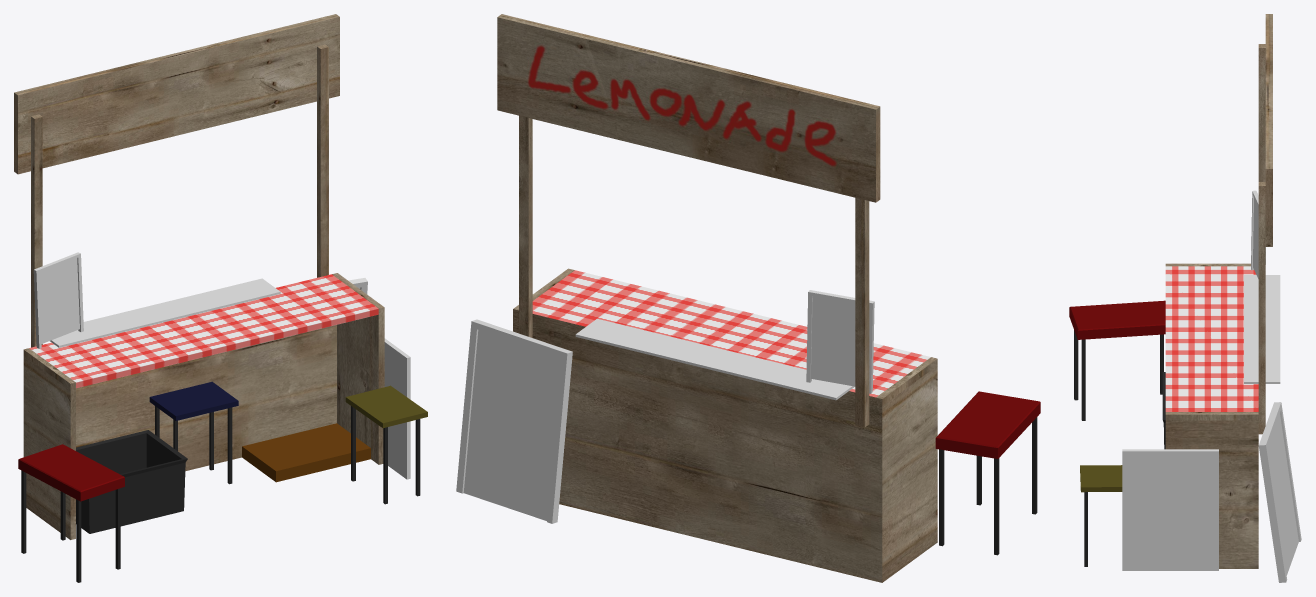
File: Lemonade Stand Textured.gltf
3 renders of one model, left to right at view 1: azimuth 30°, elevation 25°; view 2: azimuth 150°, elevation 25°; view 3: azimuth 270°, elevation 25°, orthographic. The views are drawn at different scales.
Visible parts, largest first — view 1: Cube.005, Cube.008, Cube.030, Cube.016, Cube.022, Cube.011, Cube.029, Cube.009, Cube.006, Cube.023, Cube.007, Cube.017 (+1 smaller); view 2: Cube.005, Cube.008, Cube.010, Cube.030, Cube.011, Cube.029, Cube.009, Cube.007, Cube.006; view 3: Cube.030, Cube.023, Cube.005, Cube.010, Cube.011, Cube.009, Cube.006, Cube.008, Cube.028, Cube.007, Cube.029, Cube.013 (+1 smaller).
Boxes of the visible parts, x1,y1,x2,y2 form: Cube.005: [23, 273, 384, 539]; Cube.008: [14, 14, 339, 174]; Cube.030: [29, 274, 378, 388]; Cube.016: [76, 430, 187, 533]; Cube.022: [242, 423, 370, 482]; Cube.011: [50, 278, 280, 347]; Cube.029: [33, 252, 83, 348]; Cube.009: [18, 444, 124, 501]; Cube.006: [317, 44, 328, 277]; Cube.023: [384, 338, 410, 479]; Cube.007: [31, 114, 42, 347]; Cube.017: [149, 381, 238, 420]; Cube.005: [513, 268, 937, 582]; Cube.008: [497, 14, 880, 202]; Cube.010: [456, 319, 572, 523]; Cube.030: [532, 270, 930, 397]; Cube.011: [575, 318, 854, 400]; Cube.029: [806, 290, 874, 393]; Cube.009: [935, 391, 1040, 458]; Cube.007: [855, 198, 869, 427]; Cube.006: [519, 115, 532, 337]; Cube.030: [1165, 266, 1258, 411]; Cube.023: [1122, 449, 1218, 570]; Cube.005: [1165, 263, 1258, 568]; Cube.010: [1258, 402, 1301, 582]; Cube.011: [1244, 275, 1280, 383]; Cube.009: [1069, 300, 1165, 339]; Cube.006: [1258, 182, 1265, 434]; Cube.008: [1265, 14, 1272, 246]; Cube.028: [1080, 465, 1122, 492]; Cube.007: [1258, 44, 1265, 181]; Cube.029: [1251, 190, 1265, 278]; Cube.013: [1081, 339, 1085, 420].
Bounding box in the file's own units: 2.54 × 2.48 × 1.3.
Materials: 8 (2 with a texture image).
